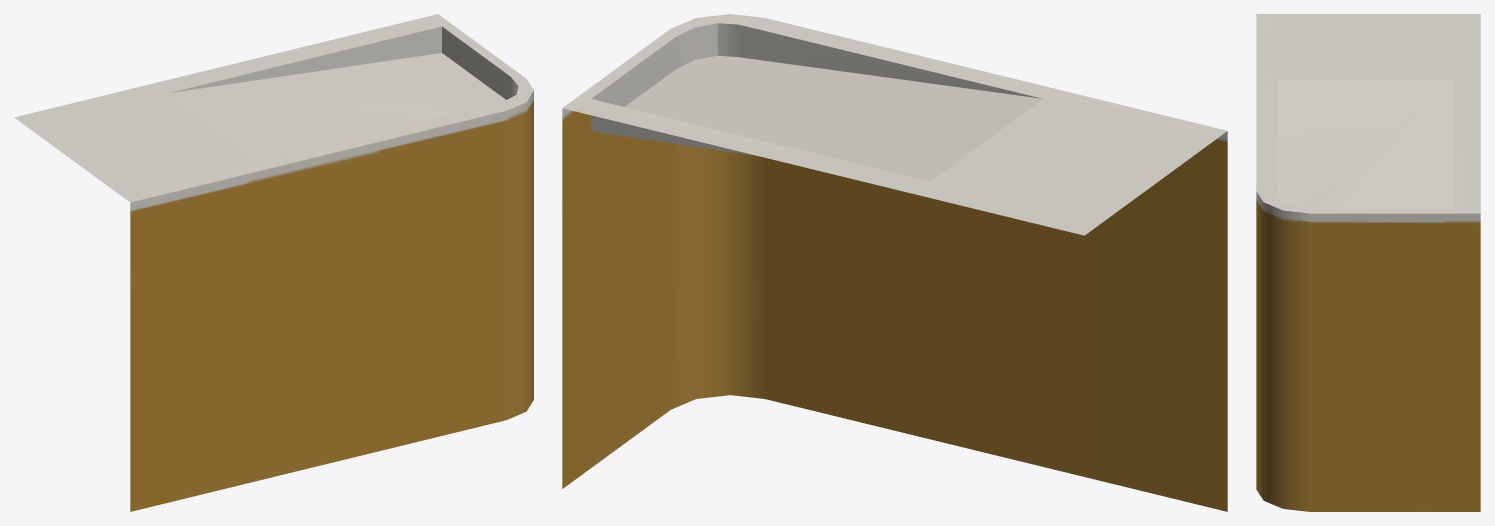
Rendered from Sink.fbx.
3 renders of one model, left to right at view 1: azimuth 30°, elevation 25°; view 2: azimuth 150°, elevation 25°; view 3: azimuth 270°, elevation 25°, orthographic. The views are drawn at different scales.
Parts seen in each view (by area): view 1: Sink; view 2: Sink; view 3: Sink.
Boxes of the visible parts, x1,y1,x2,y2 form: Sink: (14, 14, 533, 511); Sink: (562, 14, 1227, 511); Sink: (1256, 14, 1480, 511).
Bounding box in the file's own units: 127 × 88.31 × 60.16.
1 material, 1 textured.
